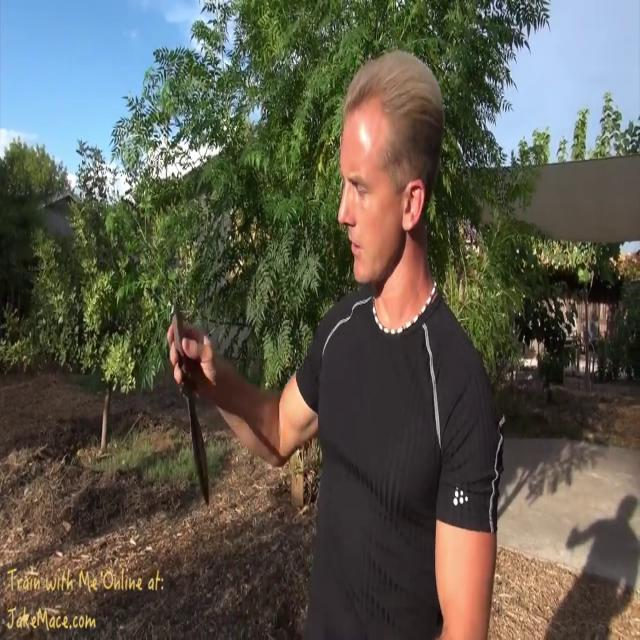knife: (165, 301, 219, 501)
